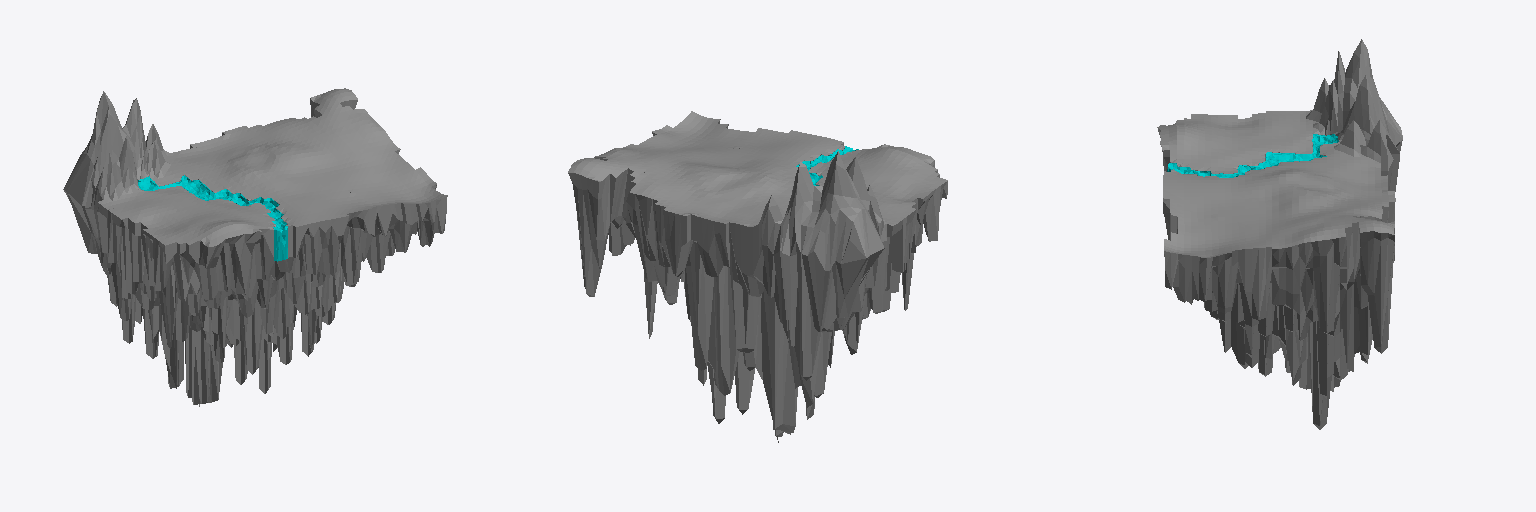
File: ile_hiver.obj
3 renders of one model, left to right at view 1: azimuth 30°, elevation 25°; view 2: azimuth 150°, elevation 25°; view 3: azimuth 270°, elevation 25°, orthographic.
Parts seen in each view (by area): view 1: ile_hiver; view 2: ile_hiver; view 3: ile_hiver.
Boxes of the visible parts, <box> form: ile_hiver: <box>63,88,447,406</box>; ile_hiver: <box>568,111,947,442</box>; ile_hiver: <box>1157,39,1402,429</box>.
Size of the model in its own units: 1945 by 2079 by 1422.